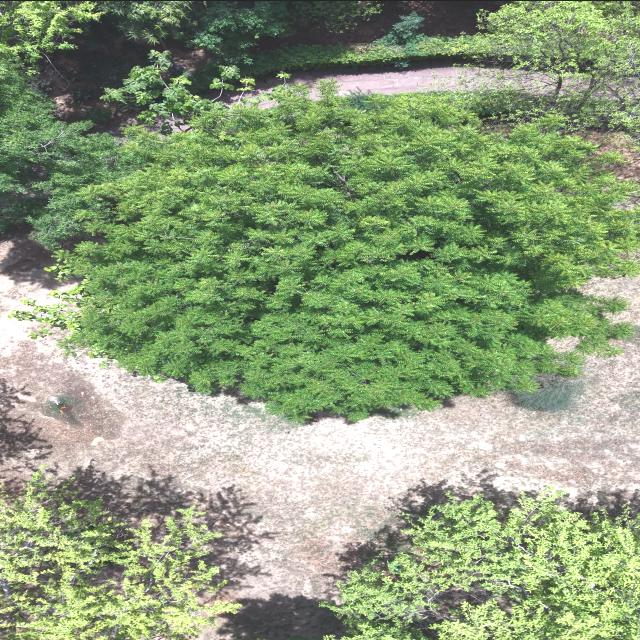DRY_AREA: (0, 239, 639, 639), (39, 14, 216, 126), (216, 61, 555, 102), (257, 1, 502, 48), (286, 65, 555, 94), (287, 66, 554, 94)
VEGETATION_TREE: (0, 1, 639, 419), (1, 3, 639, 419), (52, 90, 639, 419), (98, 1, 639, 133), (240, 1, 639, 137), (0, 1, 190, 247), (324, 491, 639, 639), (0, 473, 238, 639), (0, 1, 140, 246), (0, 1, 396, 83), (243, 1, 639, 81), (0, 60, 142, 246), (96, 1, 380, 62), (441, 56, 639, 138), (477, 1, 639, 95), (99, 50, 253, 134), (448, 82, 639, 146), (182, 1, 380, 62), (100, 50, 213, 133), (0, 1, 100, 72), (186, 1, 289, 61), (97, 1, 190, 41), (289, 1, 381, 32), (511, 375, 584, 411)
